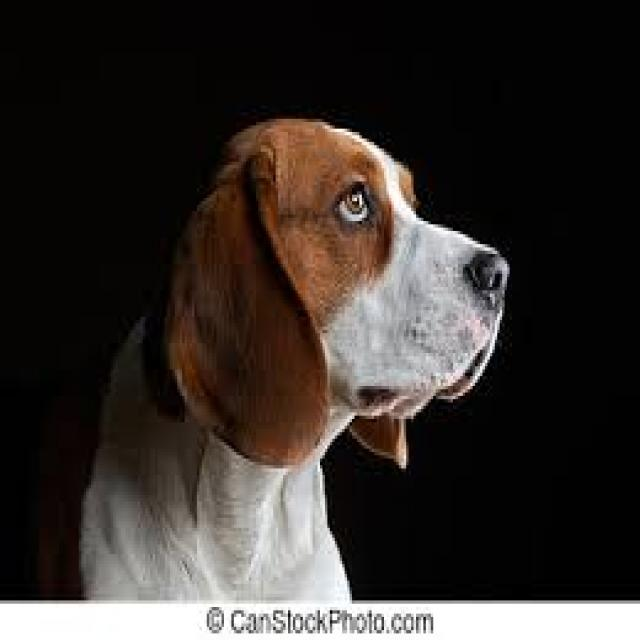Dog: (0, 112, 512, 600)
